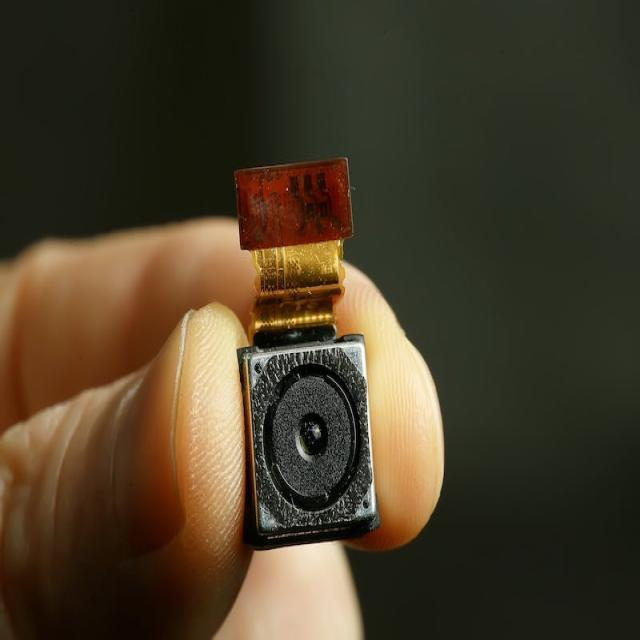hidden camera: (240, 329, 395, 536)
